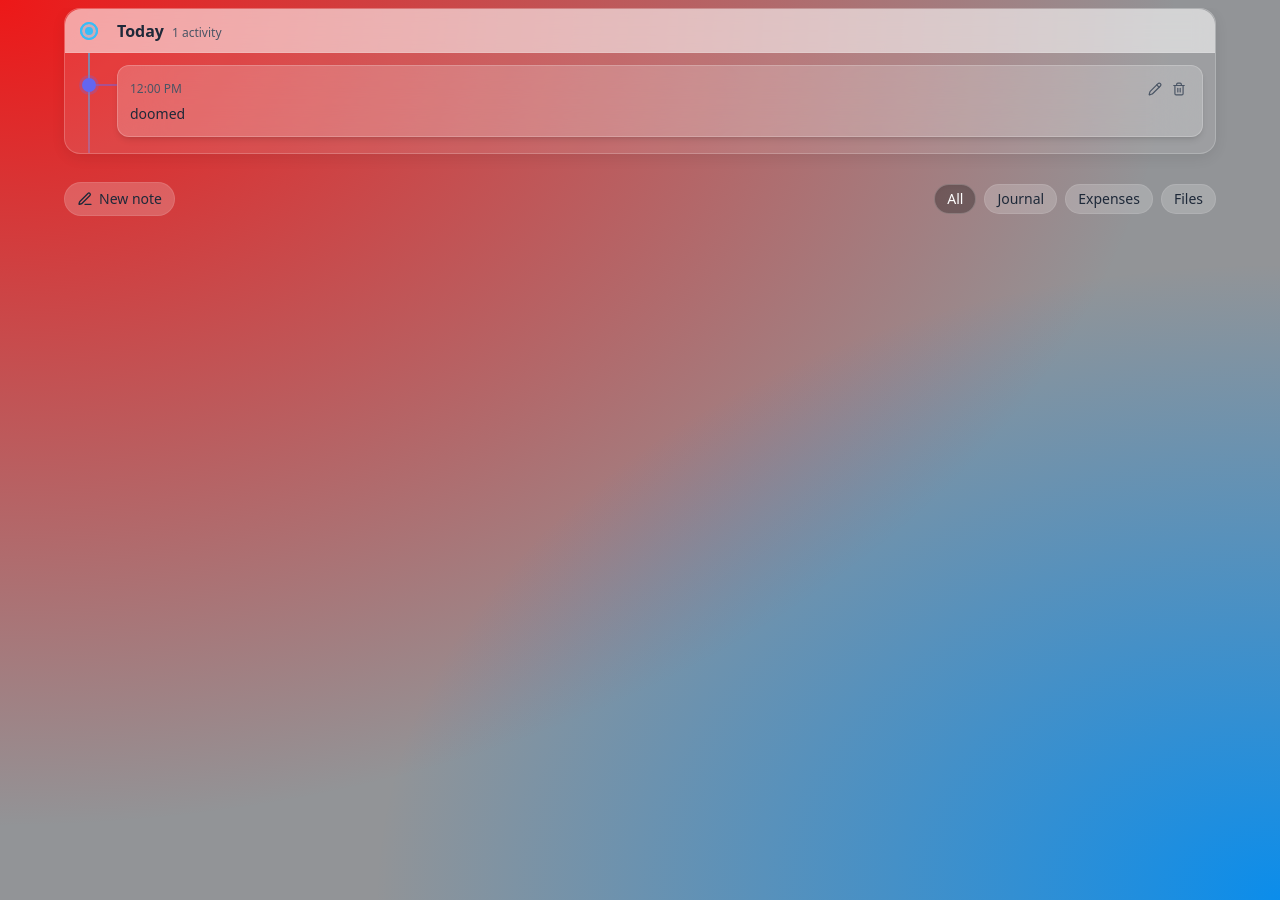
Scenario: editing and deleting notes › asks before deleting, and deletes only after confirming
The width and height of the screenshot is (1280, 900).
expect the text "doomed" is shown: met, box x1=130 y1=104 x2=185 y2=123
Click the button named "Delete note": [1179, 89] box x1=1168 y1=78 x2=1190 y2=100
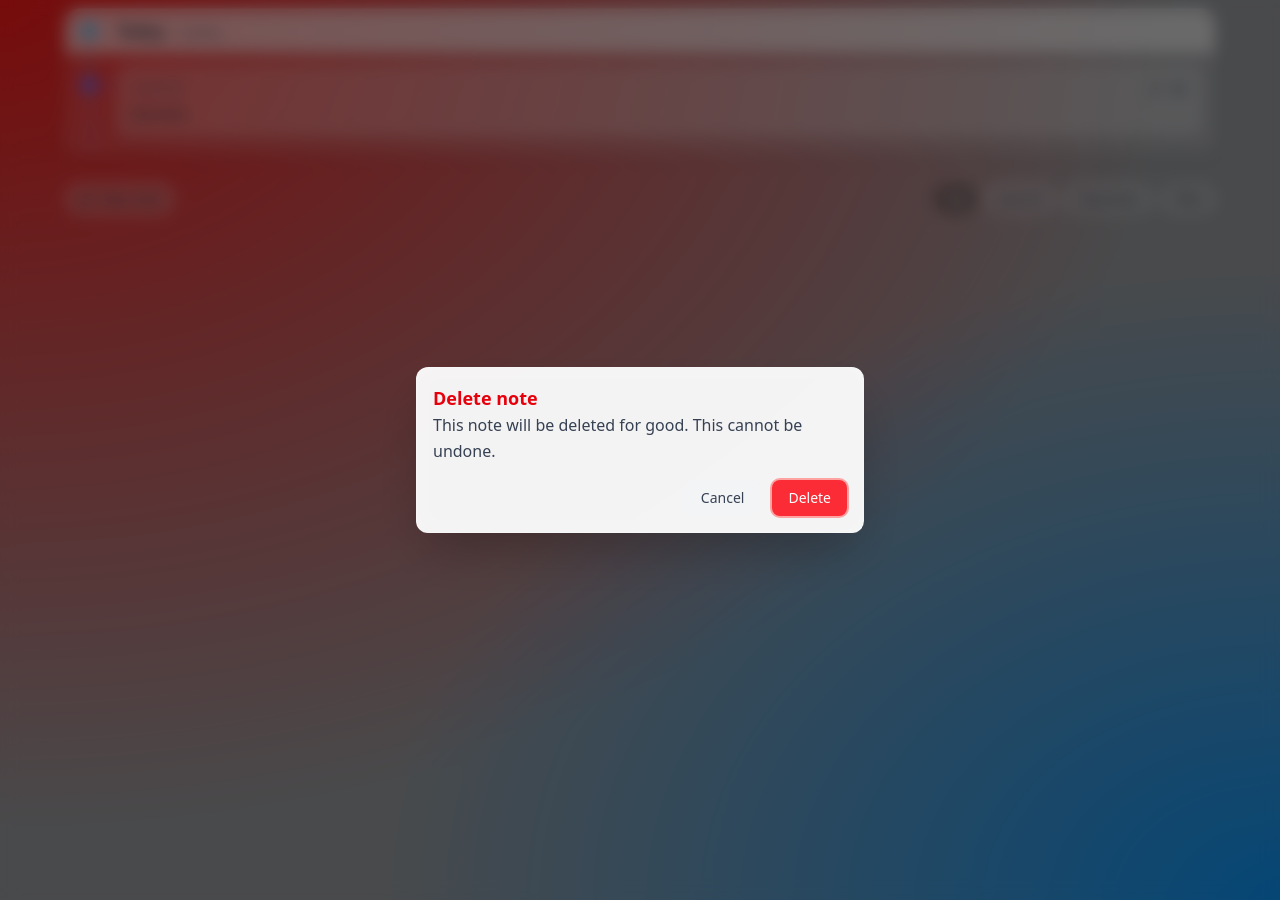
Click the button "Cancel": [723, 498] box x1=685 y1=480 x2=760 y2=516
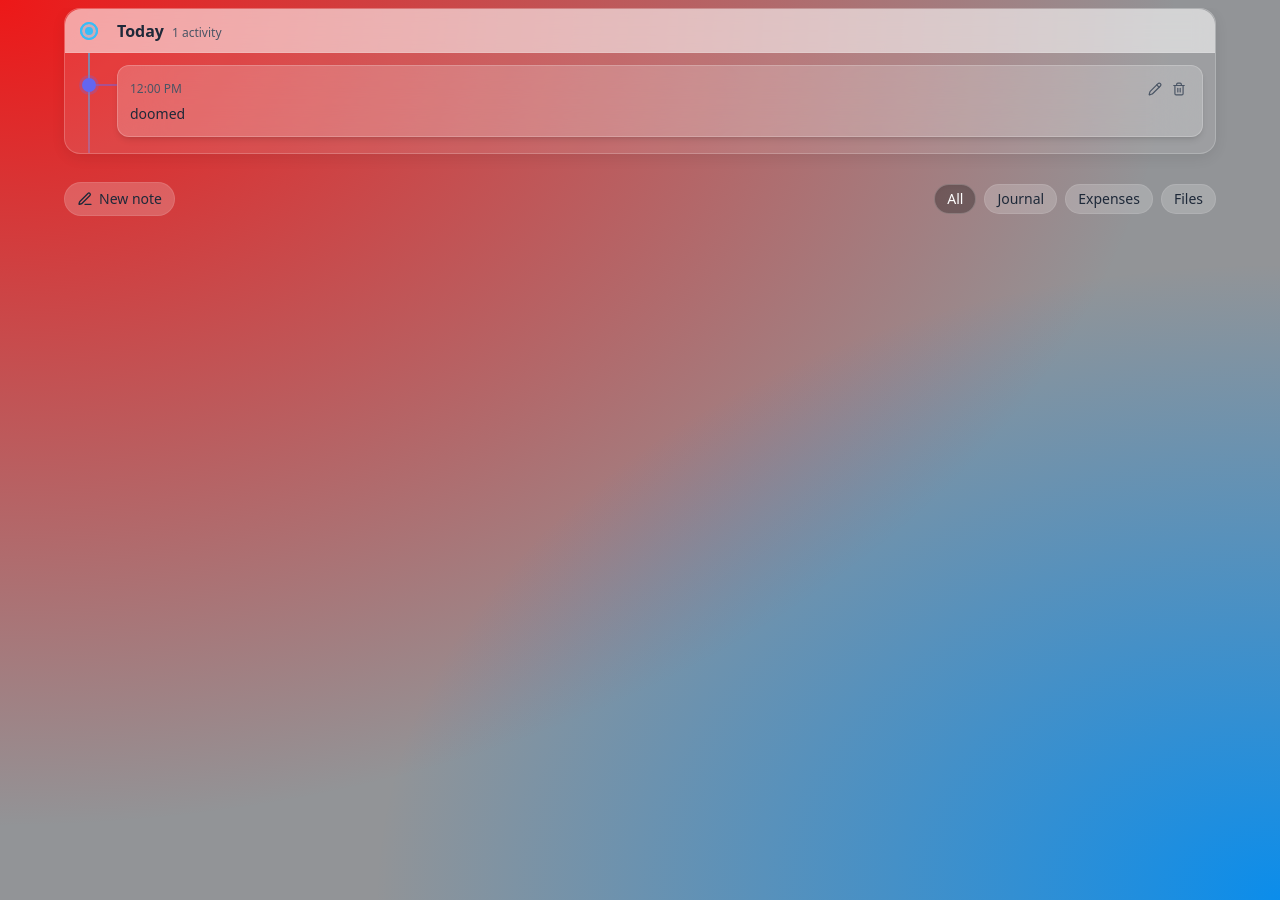
expect the text "doomed" is shown: met, box x1=130 y1=104 x2=185 y2=123
Click the button named "Delete note": [1179, 89] box x1=1168 y1=78 x2=1190 y2=100
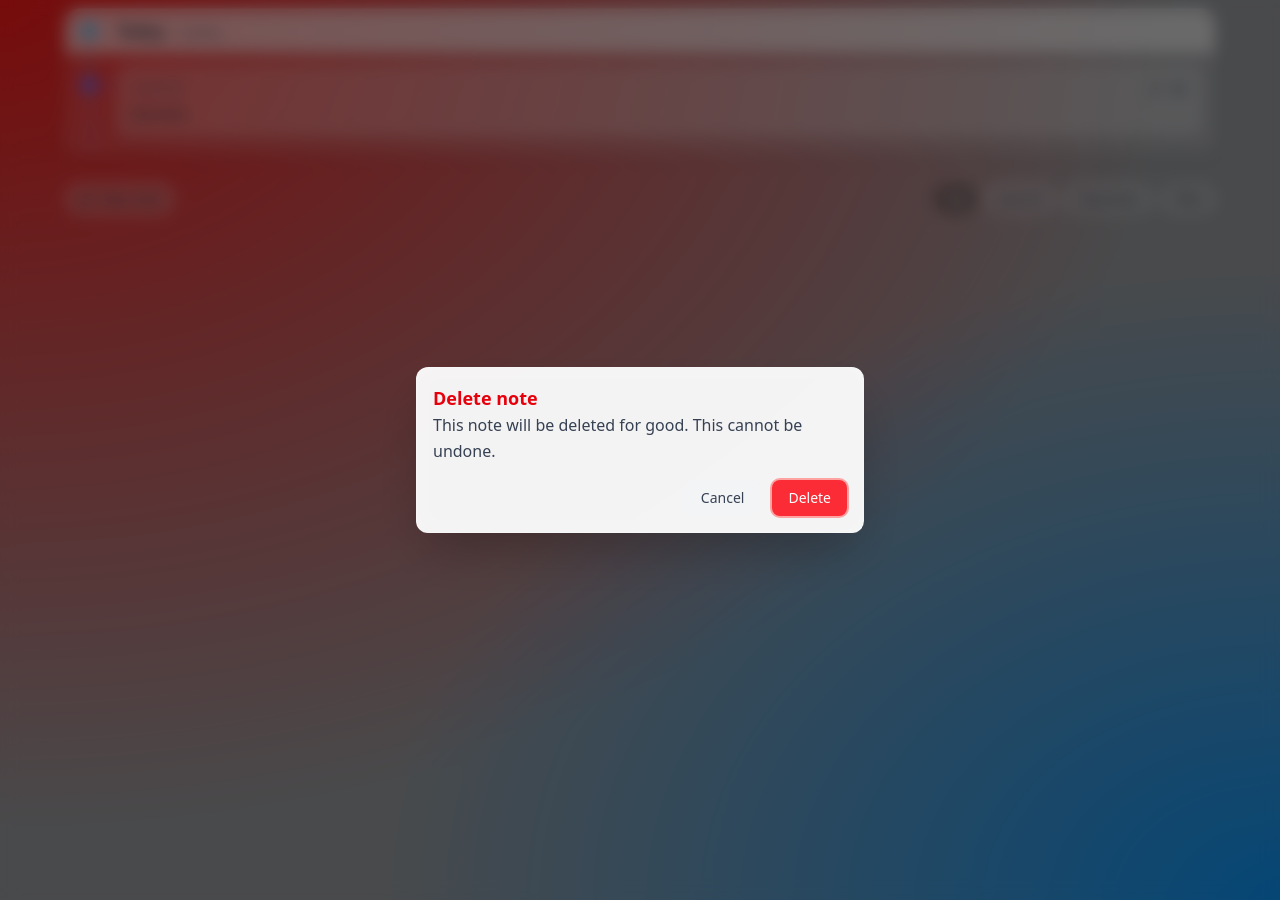
Click the button "Delete": [810, 498] box x1=772 y1=480 x2=847 y2=516
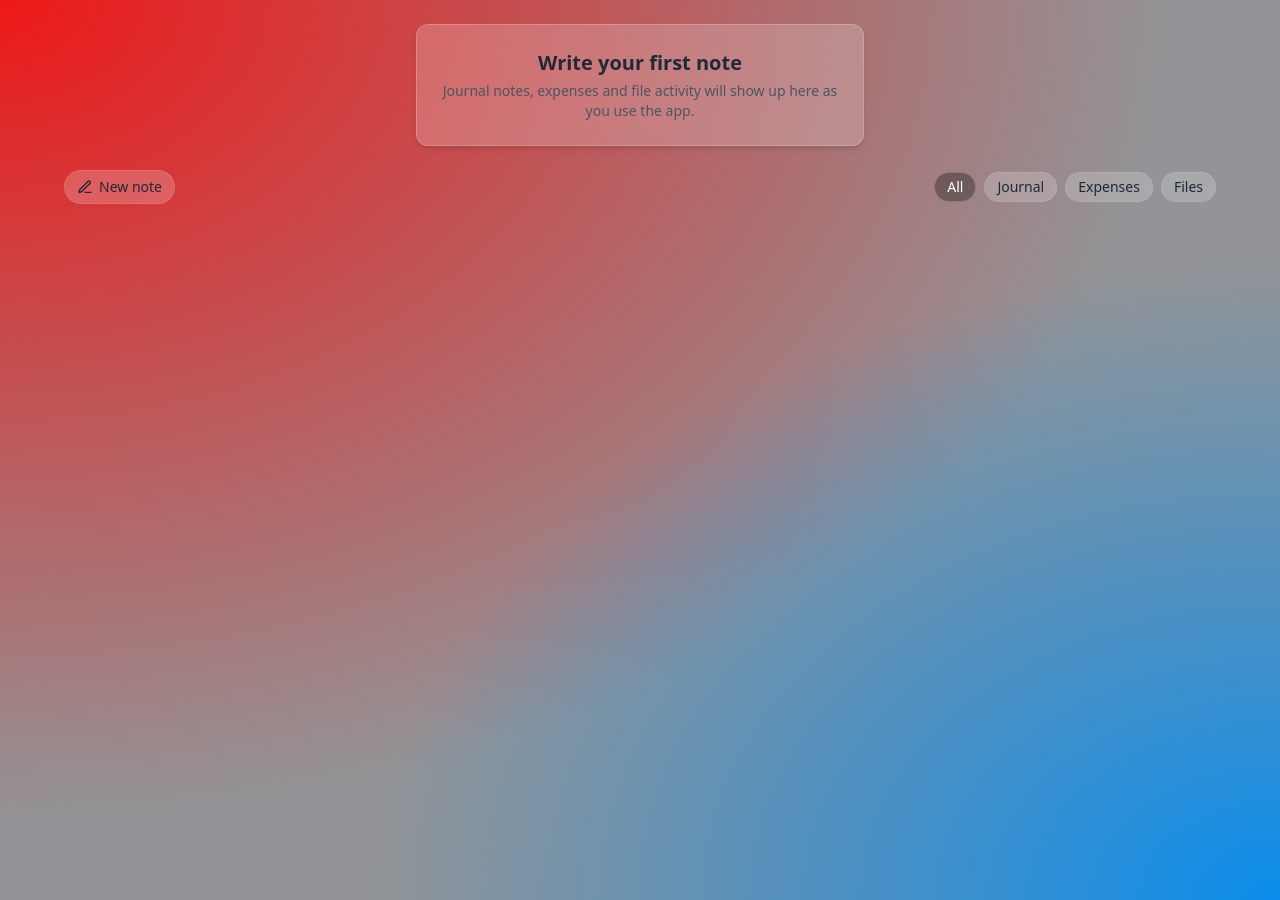
expect the text "doomed" is gone: met
